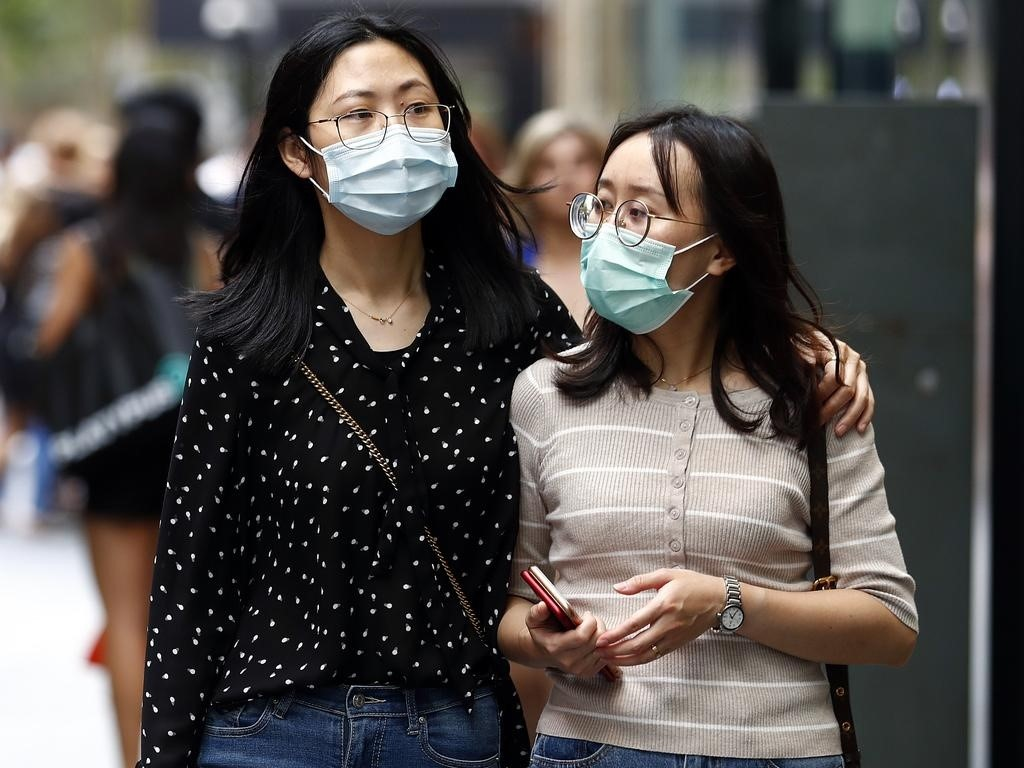face_with_mask: (572, 109, 784, 337), (275, 13, 482, 242)
